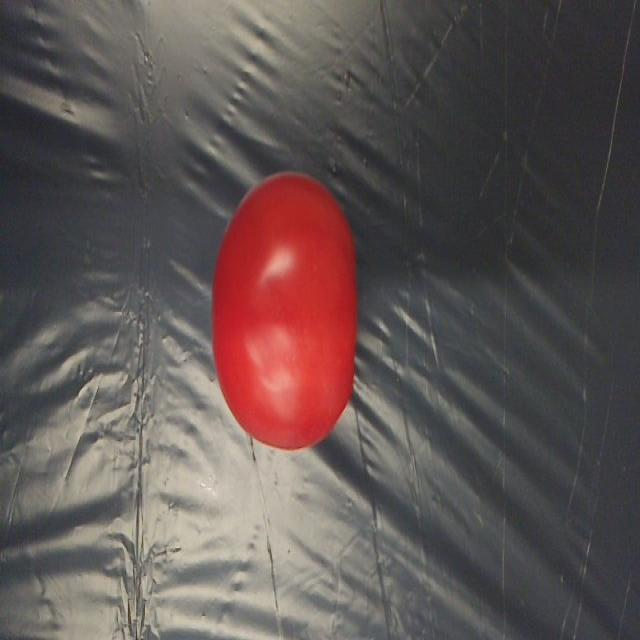kirmizi: (208, 158, 368, 457)
